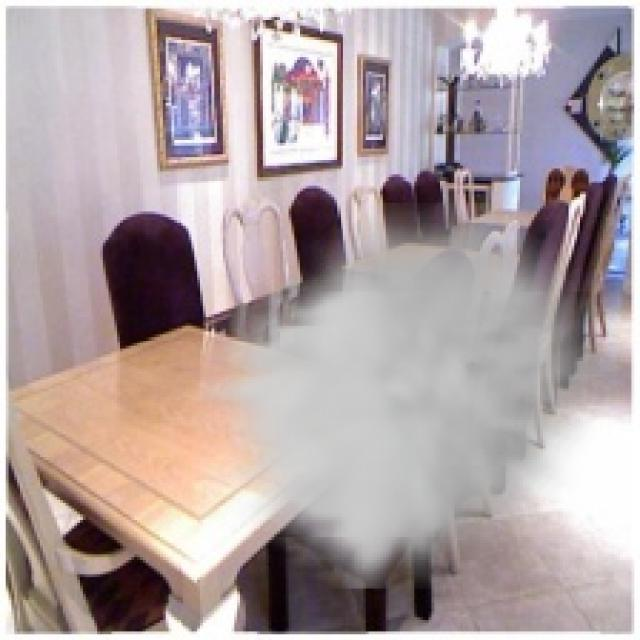smoke: (200, 203, 617, 588)
